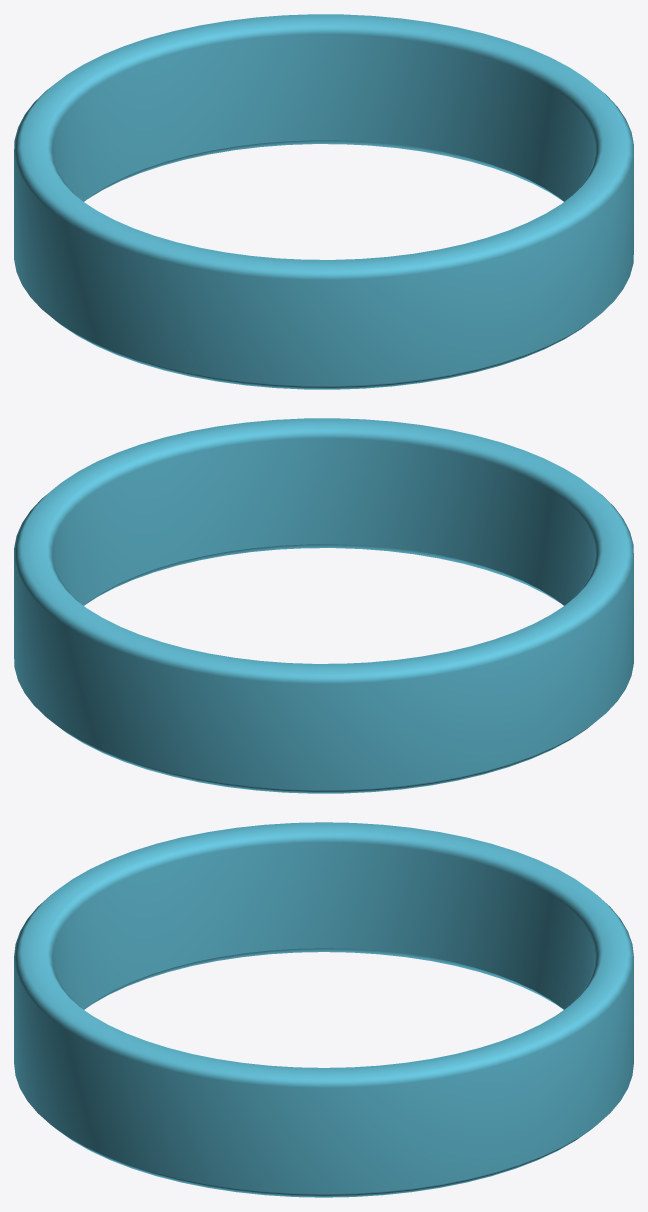
3 renders of one model, top to bottom at view 1: azimuth 30°, elevation 25°; view 2: azimuth 150°, elevation 25°; view 3: azimuth 270°, elevation 25°, orthographic.
Visible parts, largest first — view 1: seal_body; view 2: seal_body; view 3: seal_body.
Part boxes in pixels (box(x1,y1,x2,y2)): seal_body: box(14, 14, 633, 389); seal_body: box(14, 418, 633, 793); seal_body: box(14, 822, 633, 1197).
Size of the model in its own units: 0.0508 by 0.0108 by 0.0508.
